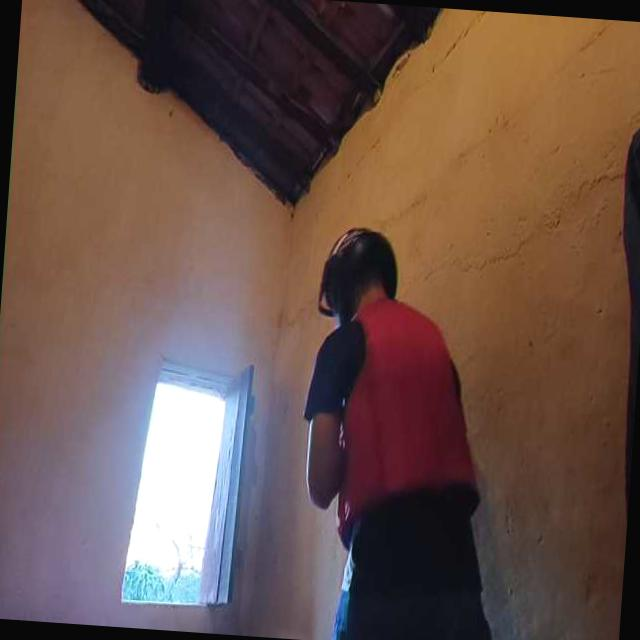capacete: (312, 220, 400, 322)
colete: (323, 293, 482, 542)
pessoa: (287, 250, 504, 640)
